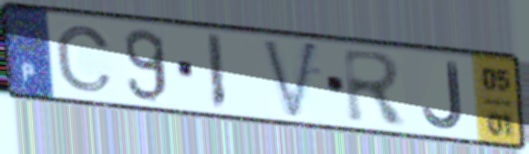9: (122, 26, 169, 104)
C: (52, 22, 117, 94)
I: (203, 31, 229, 114)
J: (420, 59, 466, 132)
R: (339, 46, 412, 128)
V: (259, 36, 322, 124)
